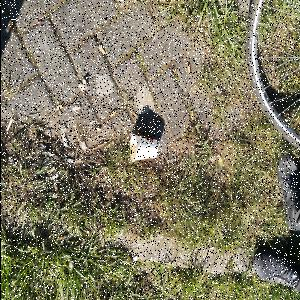Cup: (129, 134, 159, 164)
